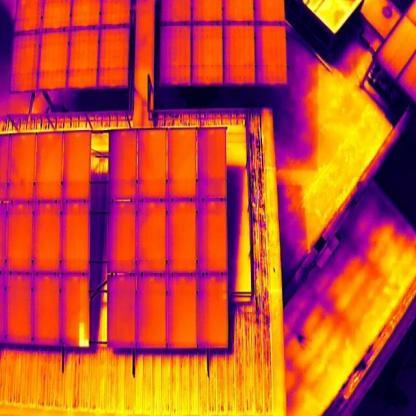anomaly: (77, 321, 90, 349)
